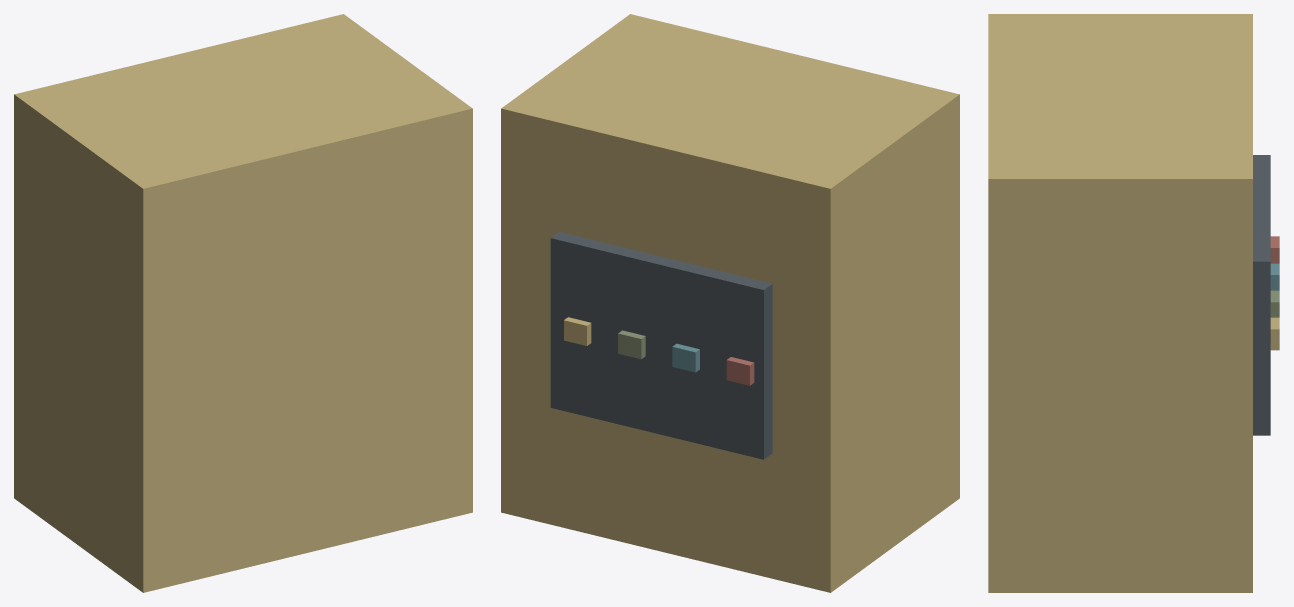
Rendered from iz2_logistics_cargo_bike.glb.
3 renders of one model, left to right at view 1: azimuth 30°, elevation 25°; view 2: azimuth 150°, elevation 25°; view 3: azimuth 270°, elevation 25°, orthographic. The views are drawn at different scales.
Visible parts, largest first — view 1: body; view 2: body; view 3: body.
Part boxes in pixels (x1=…): body: x1=14, y1=14, x2=472, y2=592; body: x1=501, y1=14, x2=959, y2=592; body: x1=988, y1=14, x2=1279, y2=592.
Bounding box in the file's own units: 0.8642 × 1.01 × 0.6452.
